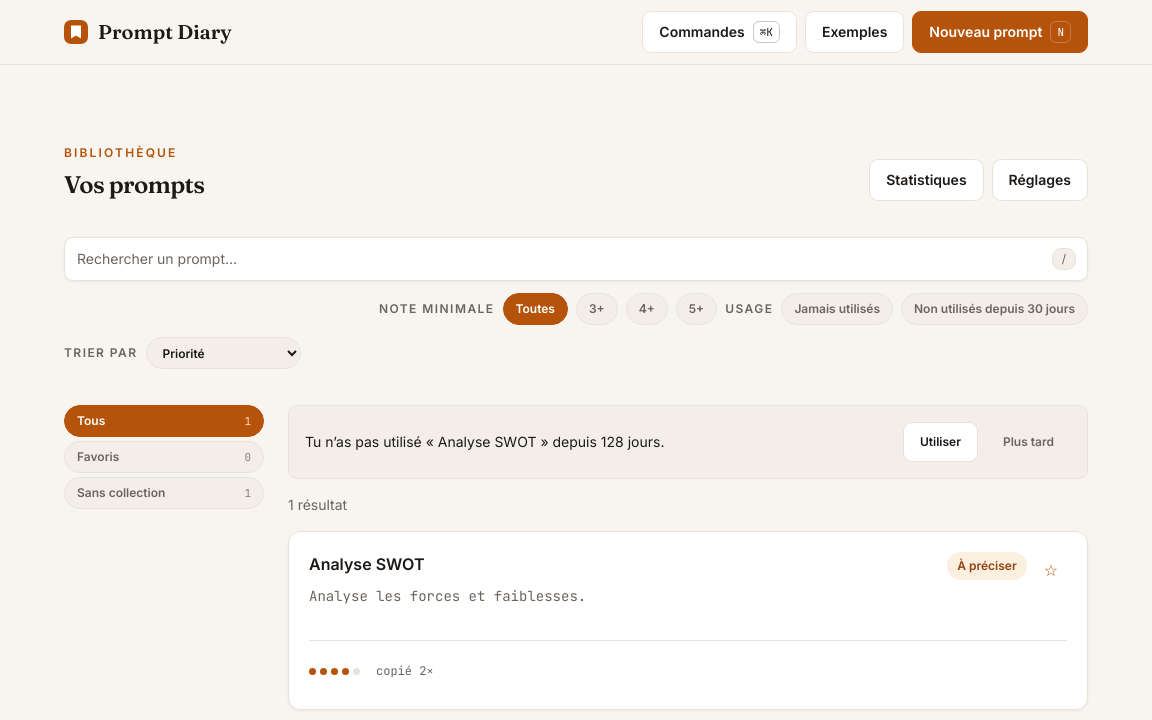
Test: Prompt Diary prompt library › suggests a prompt that has not been used for thirty days
Expected: the heading "Analyse SWOT" is shown, [309, 554, 424, 574]
Expected: the text "Tu n’as pas utilisé « Analyse SWOT » depuis 128 jours." is shown, [305, 432, 664, 452]
Click the button "Plus tard" at (1028, 442), box [986, 422, 1071, 462]
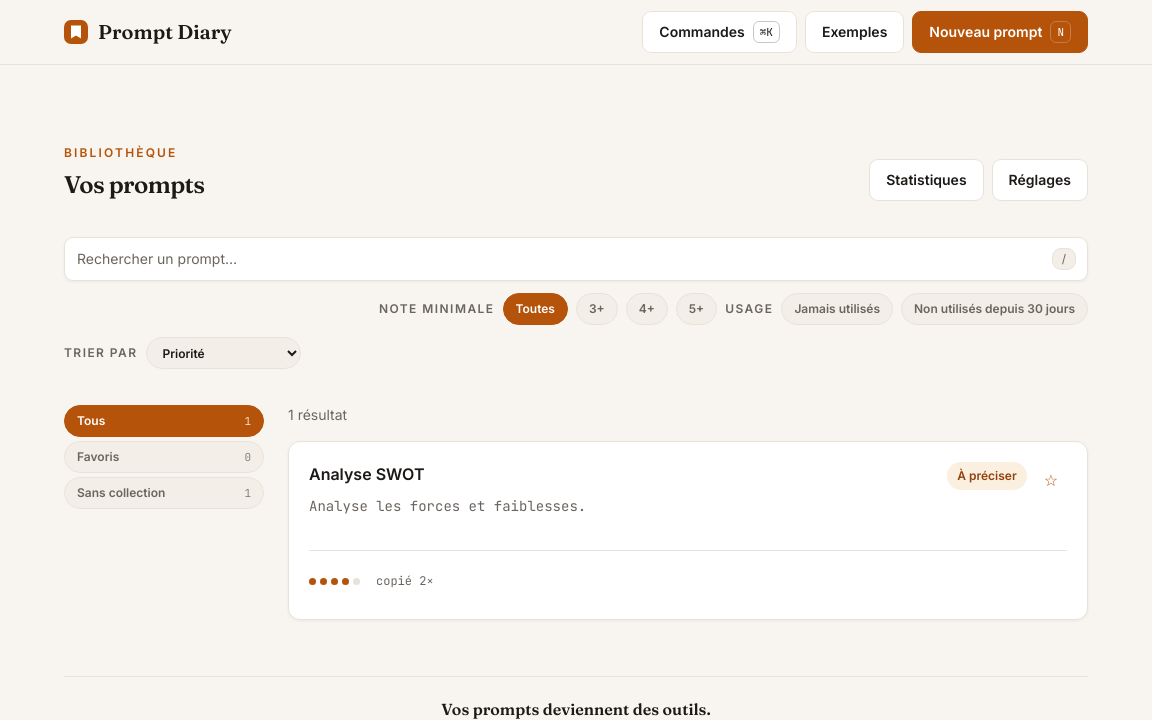
Expected: the text "Tu n’as pas utilisé" is gone
